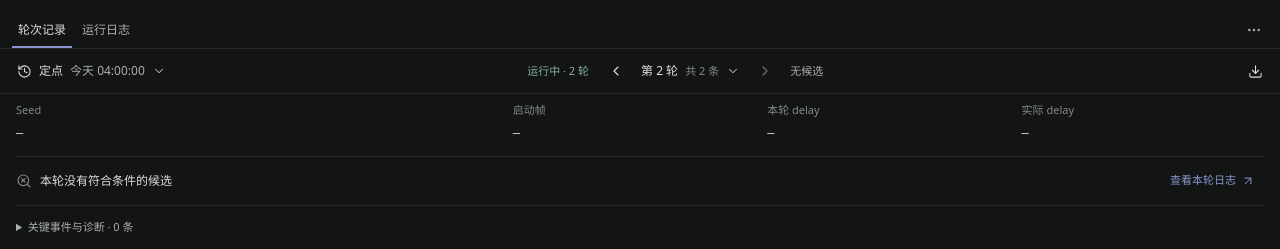
Test: changing the displayed round also changes its related log scope
Click the button "查看本轮日志" at [1212, 181], box [1161,165,1264,196]
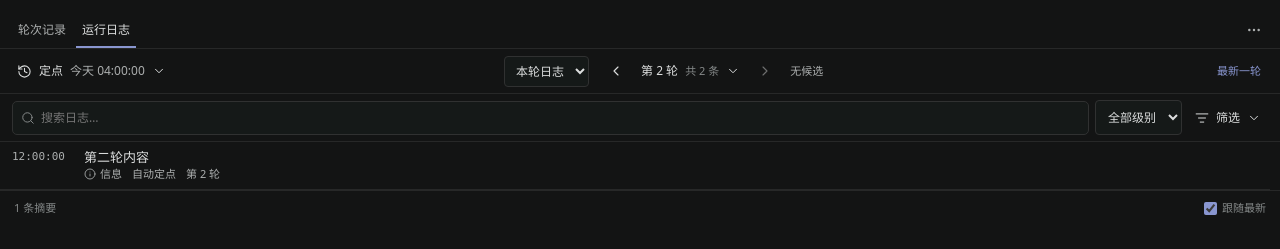
Result: the button "第二轮内容" is shown at [84,148,1258,166]
Click the button "轮次记录" at [42, 30], box [12,12,72,48]
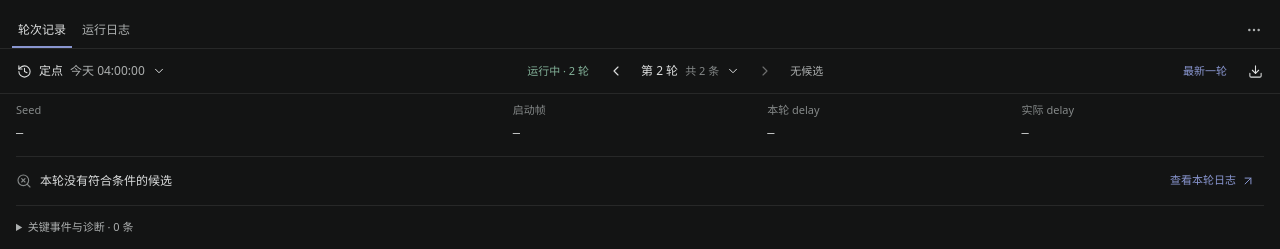
Click the button named "上一轮" at [616, 71], box [601,56,631,86]
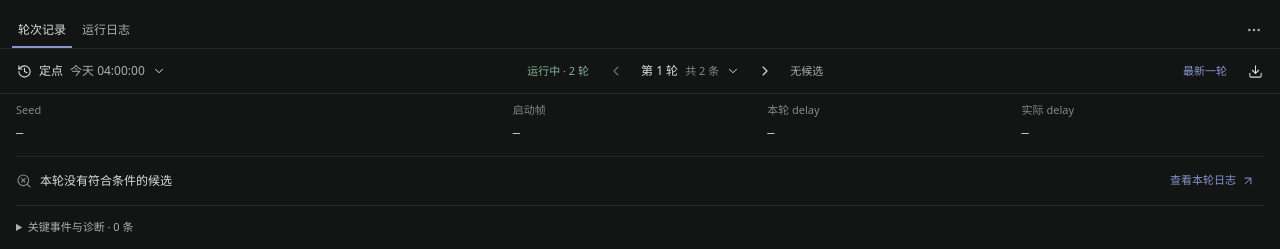
Click the button "运行日志" at [106, 30], box [76,12,136,48]
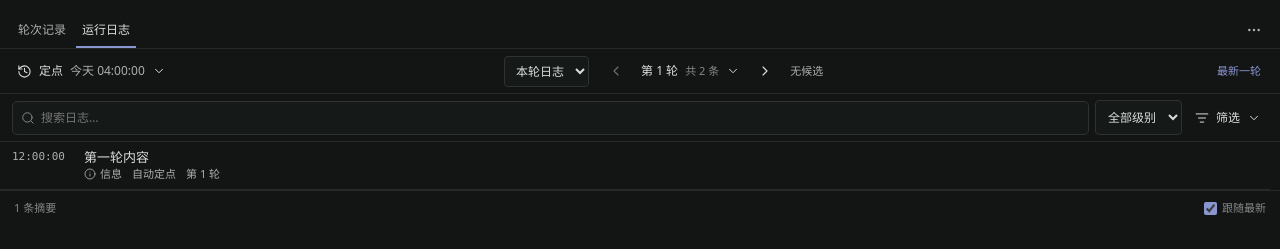
Expected: the button "第二轮内容" is not shown
Result: the button "第一轮内容" is shown at [84,148,1258,166]
